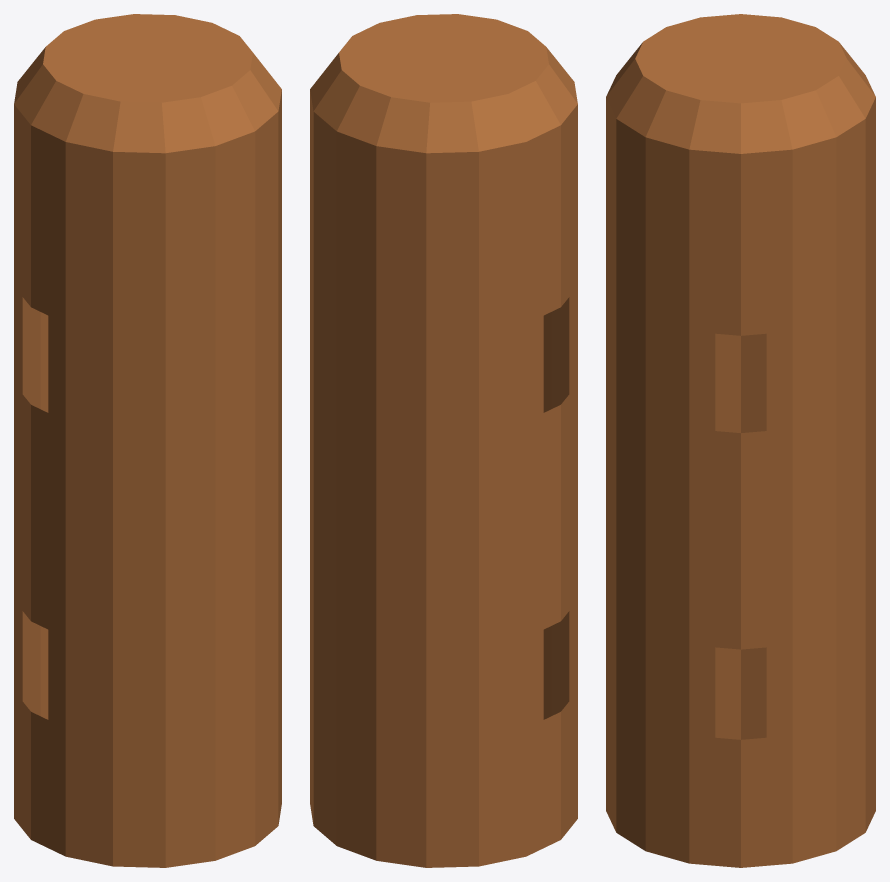
File: FencadilloStem.fbx
3 views of the same model, side by side, from view 1: azimuth 30°, elevation 25°; view 2: azimuth 150°, elevation 25°; view 3: azimuth 270°, elevation 25° (orthographic).
Visible parts, largest first — view 1: Stem; view 2: Stem; view 3: Stem.
Part boxes in pixels (left/top/right/bottom): Stem: left=14, top=14, right=281, bottom=867; Stem: left=310, top=14, right=577, bottom=867; Stem: left=606, top=14, right=875, bottom=867.
Bounding box in the file's own units: 36.89 × 113 × 36.89.
